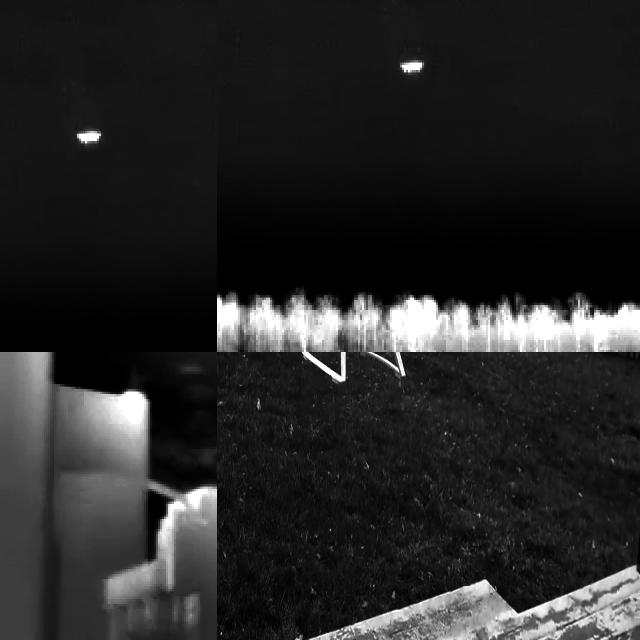1: (64, 124, 108, 156), (387, 54, 431, 86)
drone: (237, 352, 456, 385)
